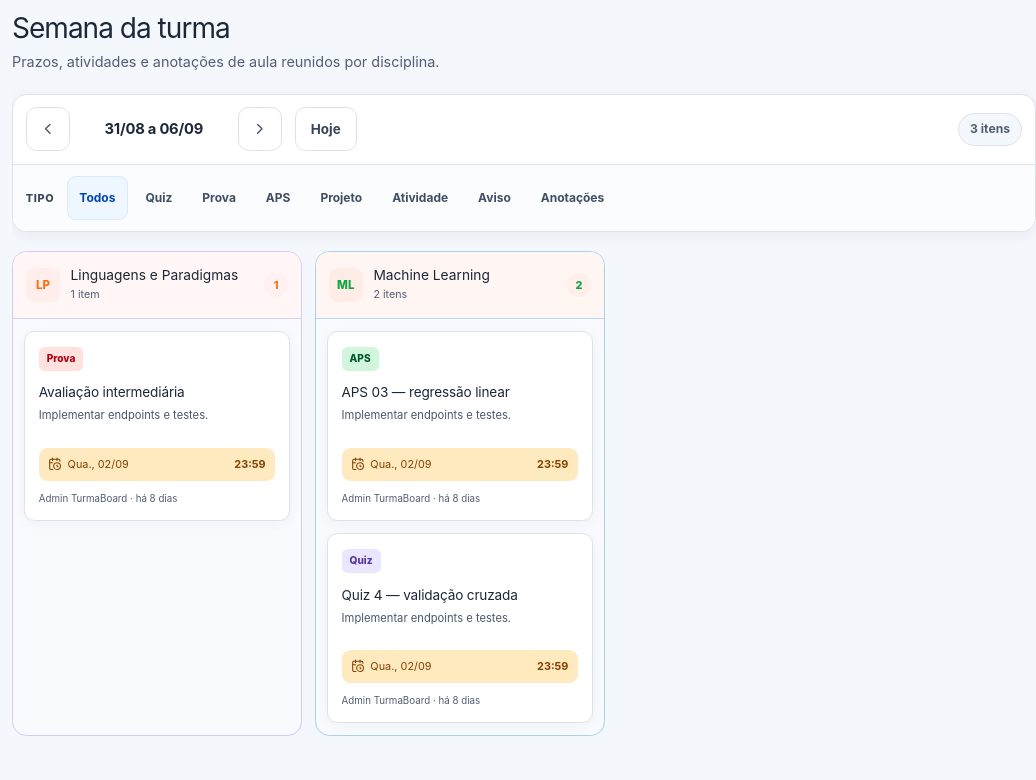
WeekPage › moves between weeks and back to the current one
Expected: the text "31/08 a 06/09" is shown, top-left (105, 120), bottom-right (203, 138)
Click the button named "Semana anterior". click: (48, 129)
box: top-left (26, 107), bottom-right (70, 151)
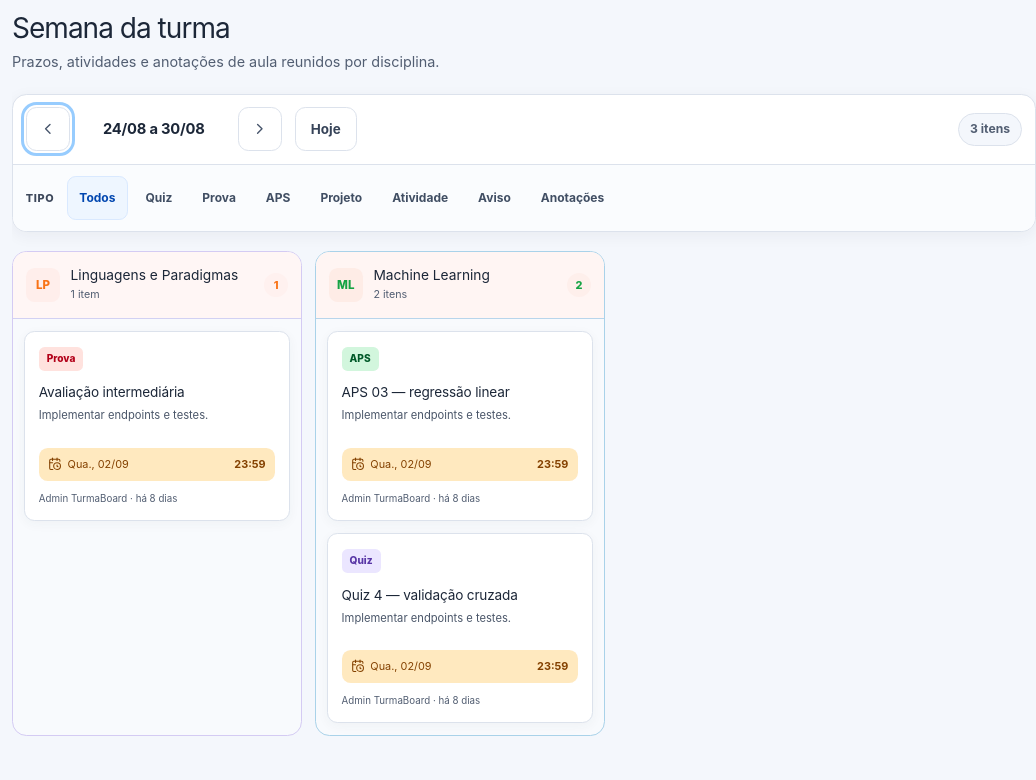
Result: the text "24/08 a 30/08" is shown at top-left (103, 120), bottom-right (204, 138)
Click the button named "Próxima semana". click: (260, 129)
box: top-left (238, 107), bottom-right (282, 151)
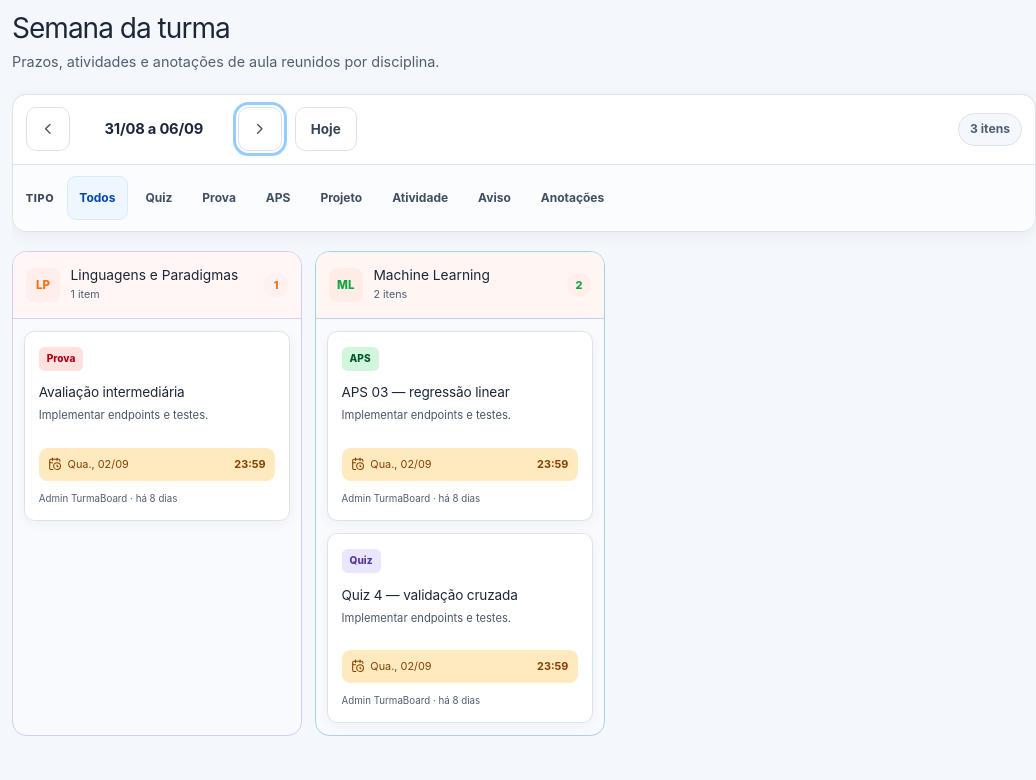
Click the button named "Próxima semana". click: (260, 129)
box: top-left (238, 107), bottom-right (282, 151)
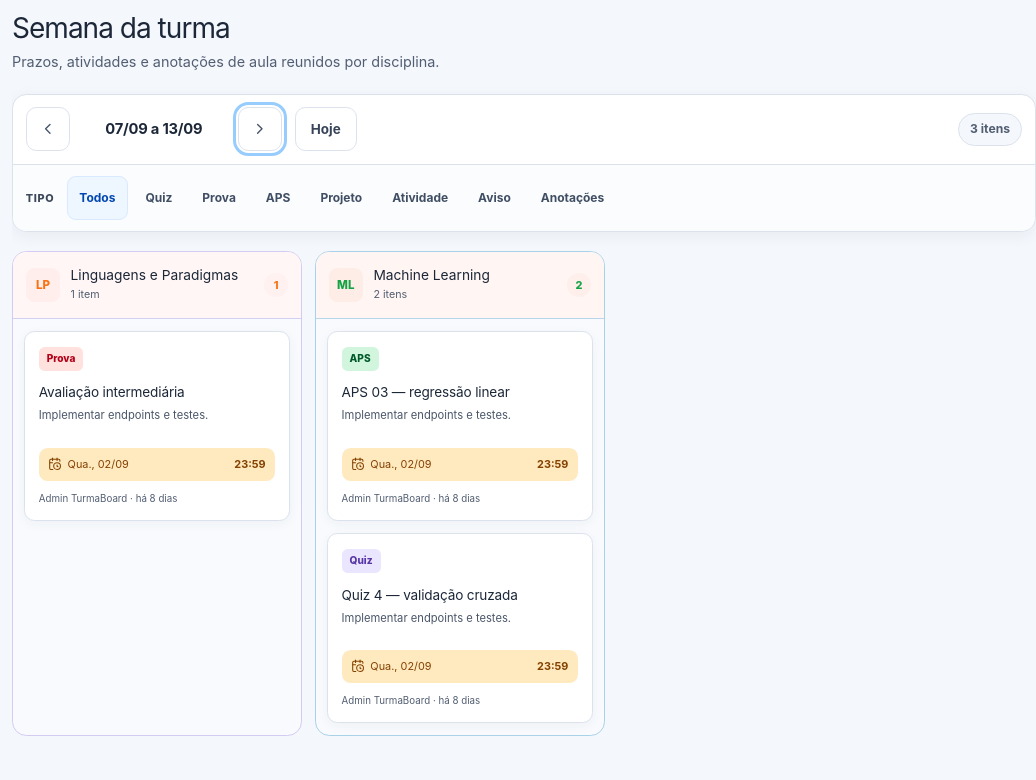
Result: the text "07/09 a 13/09" is shown at top-left (105, 120), bottom-right (202, 138)
Click the button "Hoje". click: (326, 129)
box: top-left (295, 107), bottom-right (357, 151)
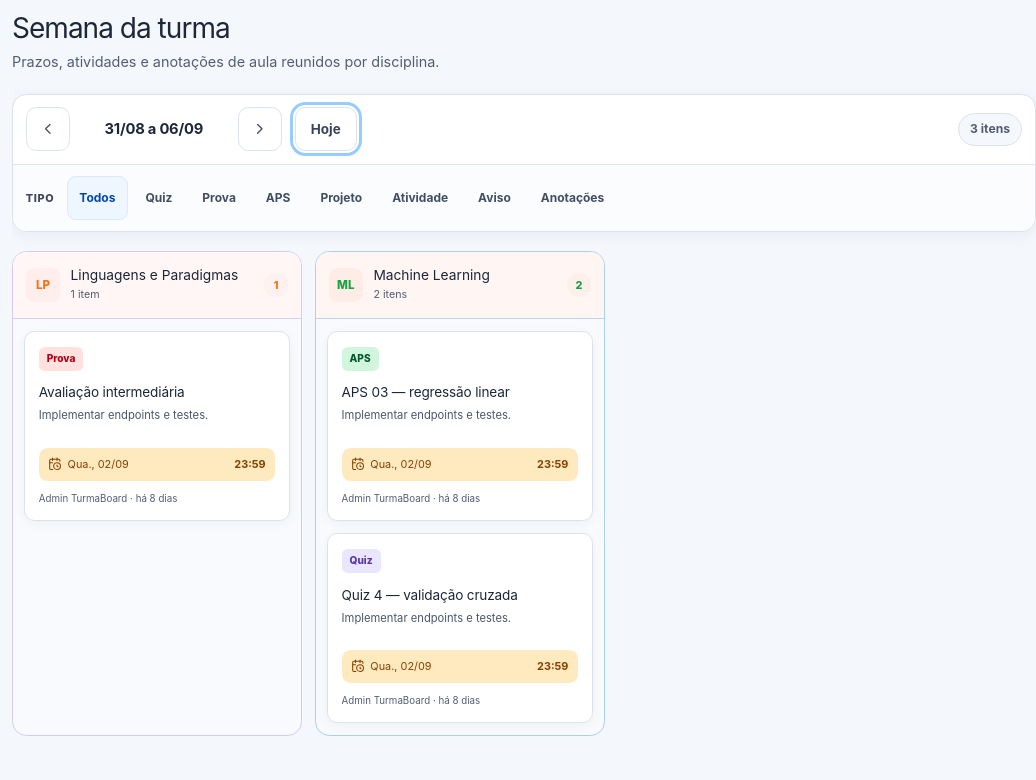
Result: the text "31/08 a 06/09" is shown at top-left (105, 120), bottom-right (203, 138)
